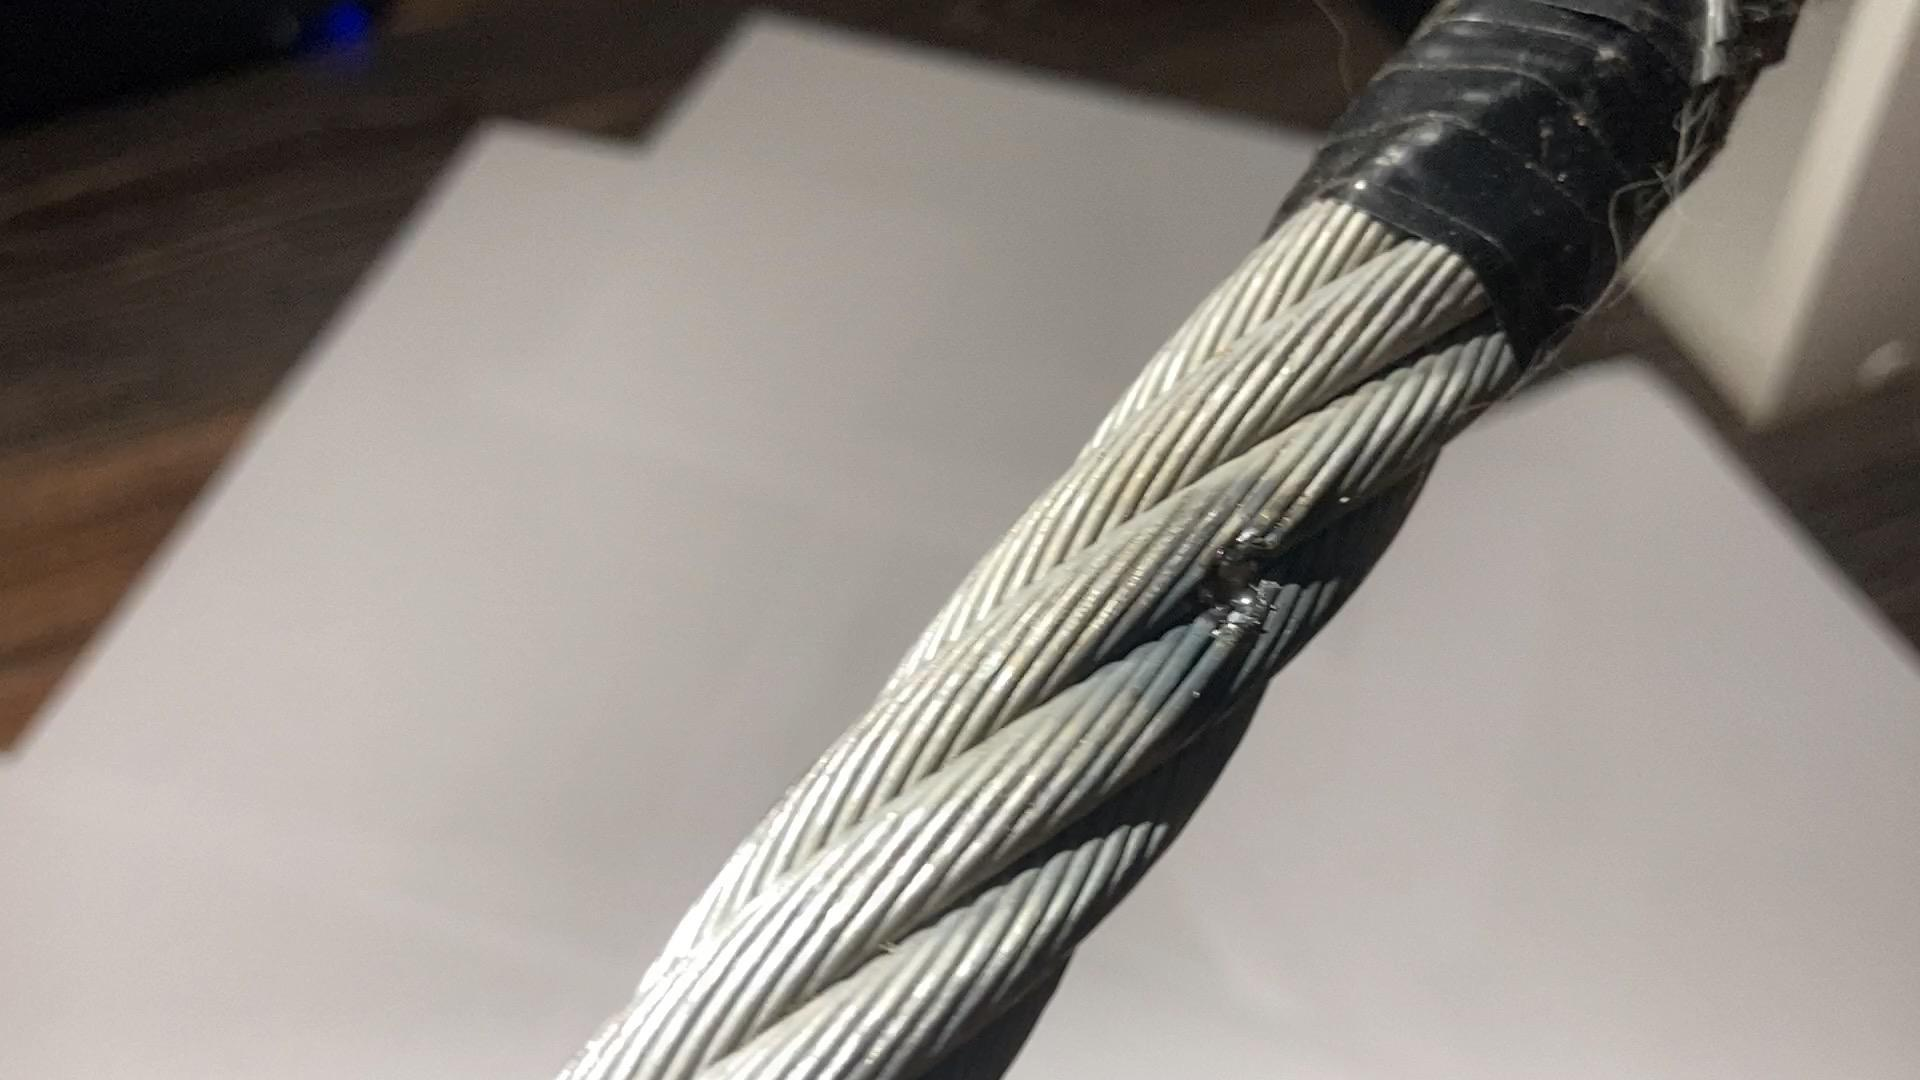thunderbolt: (1164, 506, 1302, 644)
